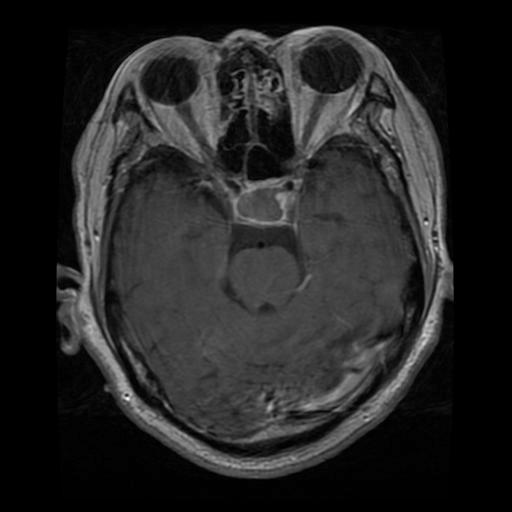Tumour-Pituitary: (231, 180, 299, 224)
